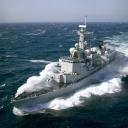Fragata: (1, 9, 88, 115)
